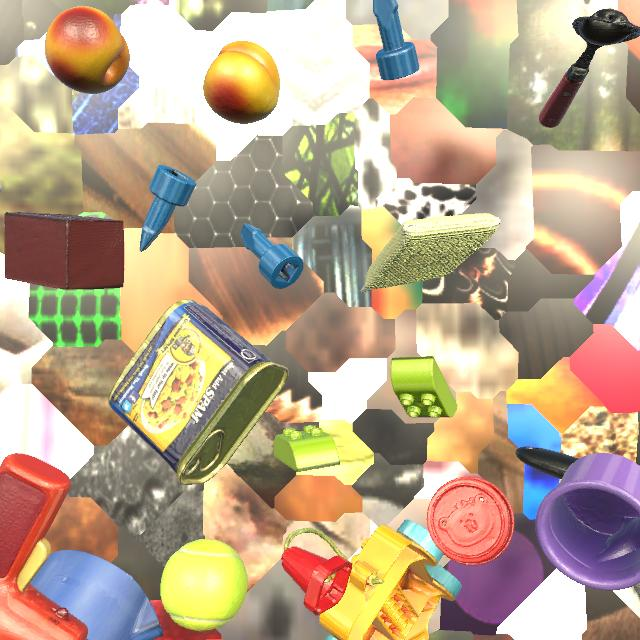ycb_010_potted_meat_can: (108, 299, 288, 485), (633, 583, 640, 598)
ycb_015_peach: (45, 6, 130, 94), (203, 41, 280, 124)
